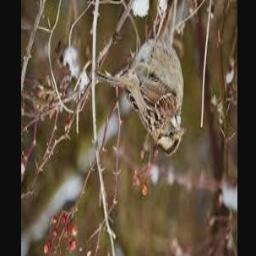Sparrow: (95, 22, 188, 156)
